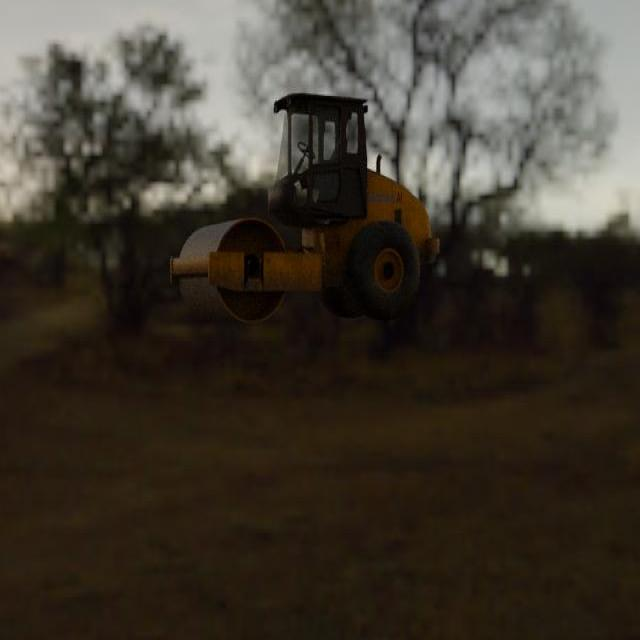Roller: (170, 92, 439, 324)
